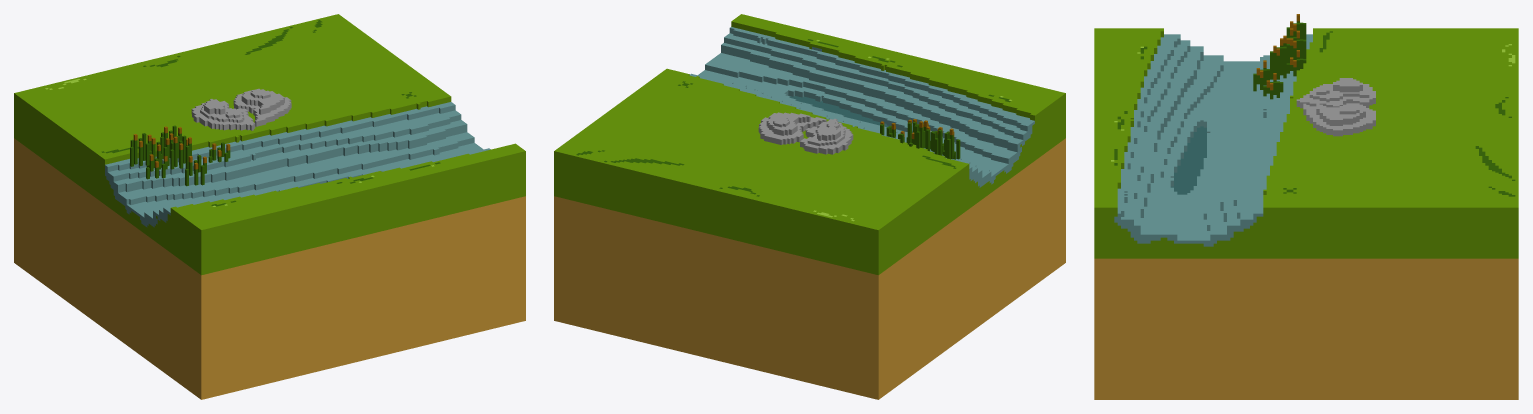
The picture shows the model from 3 angles, left to right: view 1: azimuth 30°, elevation 25°; view 2: azimuth 150°, elevation 25°; view 3: azimuth 270°, elevation 25°; orthographic projection. The views are drawn at different scales.
Visible parts, largest first — view 1: 4I; view 2: 4I; view 3: 4I.
Boxes of the visible parts, <box> form: 4I: <box>14,14,525,399</box>; 4I: <box>554,14,1065,399</box>; 4I: <box>1094,14,1518,399</box>.
Size of the model in its own units: 12.8 by 7.3 by 12.8.
1 material, 1 textured.
